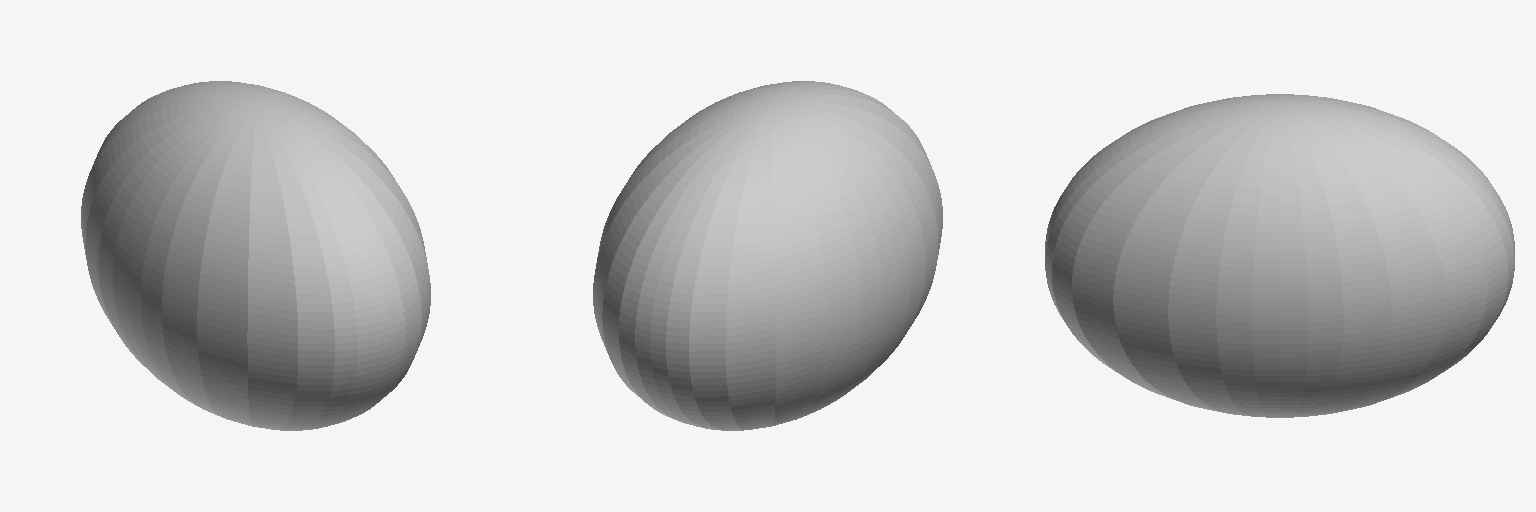
Rendered from planet3.obj.
3 renders of one model, left to right at view 1: azimuth 30°, elevation 25°; view 2: azimuth 150°, elevation 25°; view 3: azimuth 270°, elevation 25°, orthographic.
Parts seen in each view (by area): view 1: Planet3_SurfSphere.004; view 2: Planet3_SurfSphere.004; view 3: Planet3_SurfSphere.004.
Boxes of the visible parts, x1,y1,x2,y2 form: Planet3_SurfSphere.004: [81, 81, 430, 430]; Planet3_SurfSphere.004: [593, 81, 942, 430]; Planet3_SurfSphere.004: [1045, 94, 1514, 417].
Size of the model in its own units: 420 by 460 by 660.